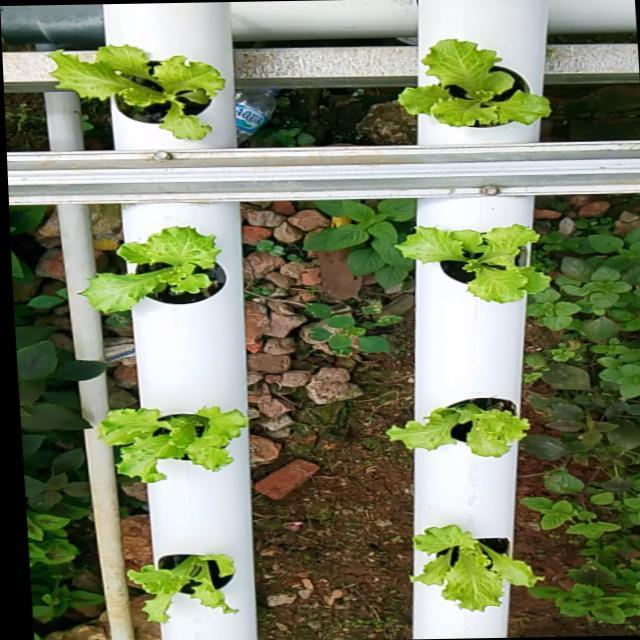Baby: (45, 43, 223, 138), (398, 32, 551, 138), (84, 218, 231, 305), (393, 219, 550, 299), (102, 399, 253, 474), (413, 515, 545, 600), (389, 389, 533, 449), (132, 544, 242, 611)
